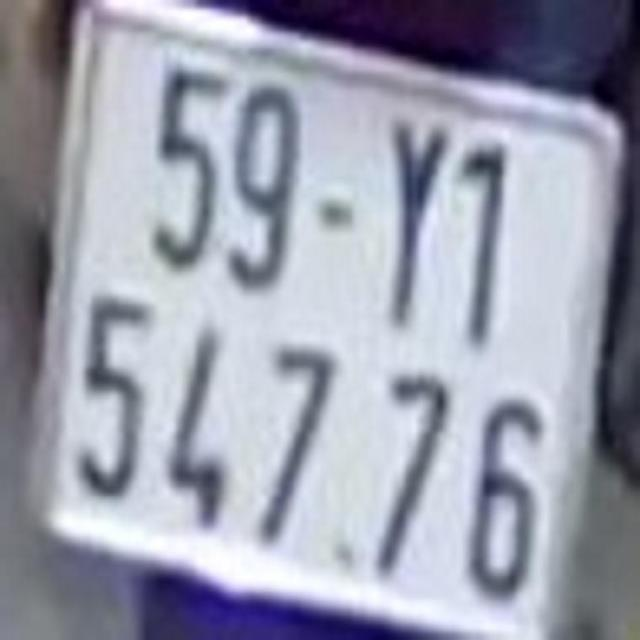1: (459, 138, 504, 344)
4: (168, 322, 235, 529)
5: (76, 291, 146, 503), (154, 61, 216, 266)
6: (476, 396, 543, 602)
7: (264, 340, 336, 559), (382, 370, 446, 589)
9: (230, 83, 296, 284)
Y: (381, 115, 447, 332)
